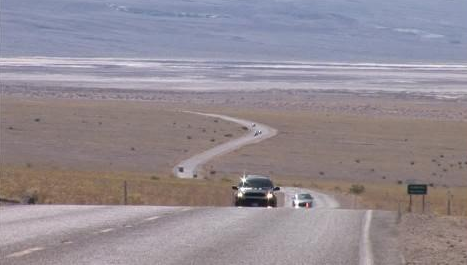car: (231, 175, 281, 209), (290, 193, 315, 208)
